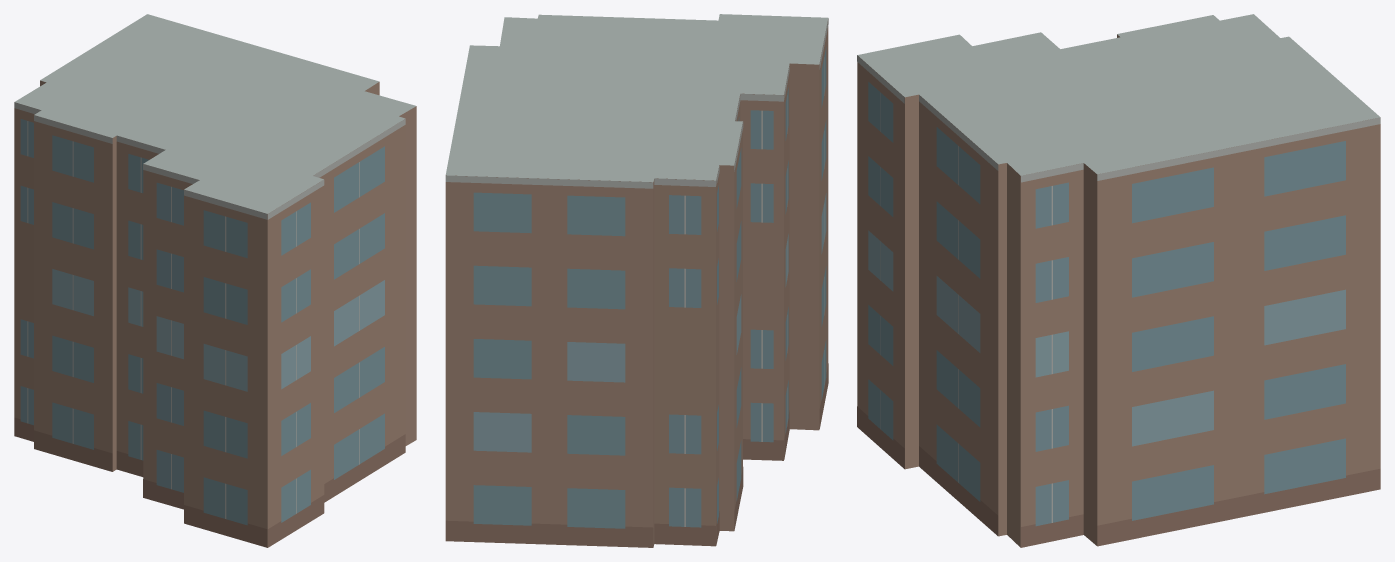
File: survey-upis-33044047.glb
3 renders of one model, left to right at view 1: azimuth 30°, elevation 25°; view 2: azimuth 150°, elevation 25°; view 3: azimuth 270°, elevation 25°, orthographic. The views are drawn at different scales.
Parts seen in each view (by area): view 1: survey-upis-33044047.tmp; view 2: survey-upis-33044047.tmp; view 3: survey-upis-33044047.tmp.
Boxes of the visible parts, x1,y1,x2,y2 form: survey-upis-33044047.tmp: [14, 14, 416, 547]; survey-upis-33044047.tmp: [445, 14, 828, 547]; survey-upis-33044047.tmp: [857, 14, 1380, 547].
Size of the model in its own units: 12.66 by 13.55 by 17.29.
